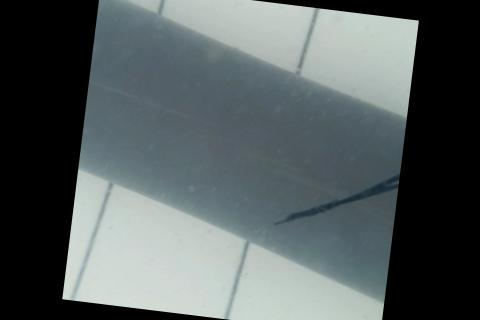keretakan: (270, 151, 400, 241)
